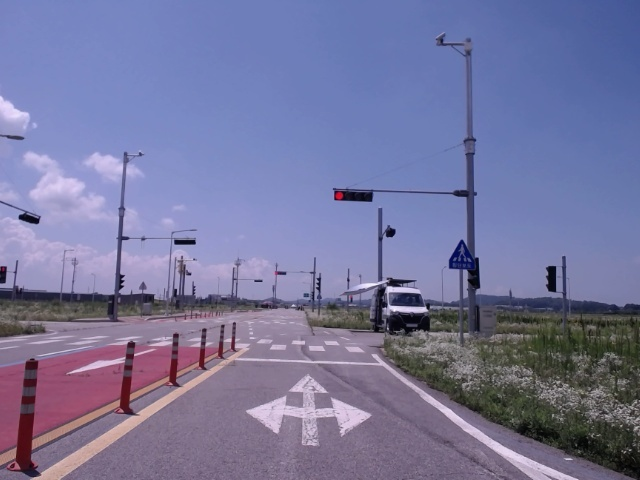red_4: (333, 191, 373, 202)
